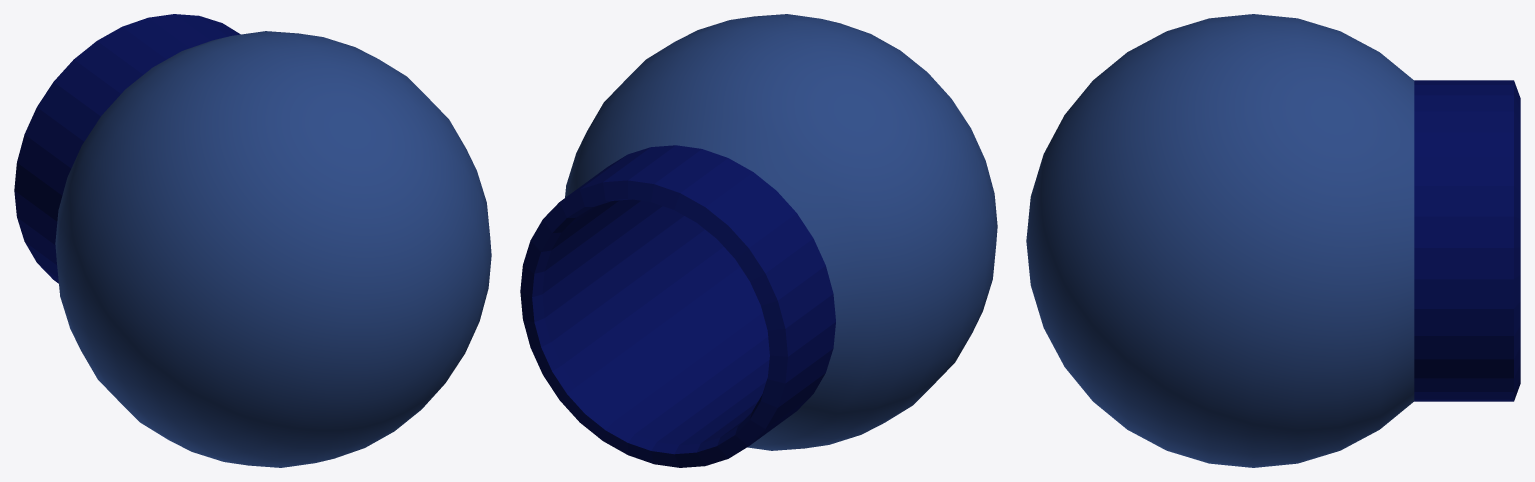
The model's file is Vso_Station_Cannon_Laser_Barrel.fbx.
3 views of the same model, side by side, from view 1: azimuth 30°, elevation 25°; view 2: azimuth 150°, elevation 25°; view 3: azimuth 270°, elevation 25° (orthographic). The views are drawn at different scales.
Visible parts, largest first — view 1: Vso_Station_Cannon_Laser_Barrel; view 2: Vso_Station_Cannon_Laser_Barrel; view 3: Vso_Station_Cannon_Laser_Barrel.
Part boxes in pixels (box(x1,y1,x2,y2)): Vso_Station_Cannon_Laser_Barrel: box(14, 14, 491, 467); Vso_Station_Cannon_Laser_Barrel: box(520, 14, 997, 467); Vso_Station_Cannon_Laser_Barrel: box(1026, 14, 1520, 467).
Bounding box in the file's own units: 0.4545 × 0.4545 × 0.4944.
